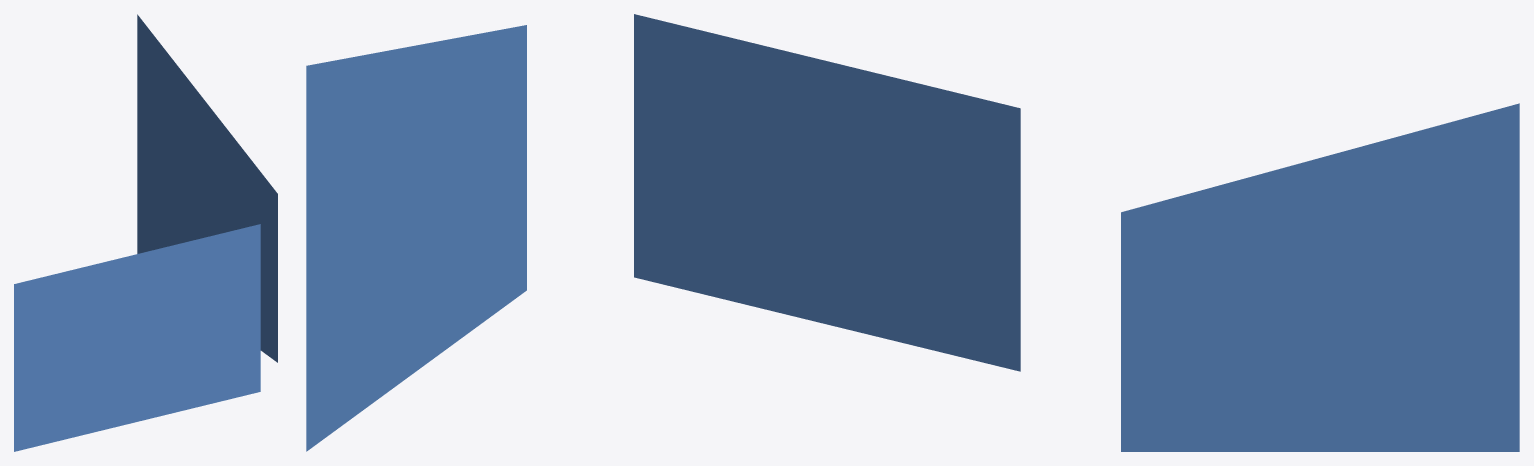
The model's file is PoolMirrors.fbx.
The picture shows the model from 3 angles, left to right: view 1: azimuth 30°, elevation 25°; view 2: azimuth 150°, elevation 25°; view 3: azimuth 270°, elevation 25°; orthographic projection. The views are drawn at different scales.
Parts seen in each view (by area): view 1: PoolWindowsSingle2, PoolWindowsSingle; view 2: PoolWindowsSingle2, PoolWindowsSingle; view 3: PoolWindowsSingle.
Boxes of the visible parts, left/top/right/bottom form: PoolWindowsSingle2: left=14, top=224, right=260, bottom=451; PoolWindowsSingle: left=137, top=14, right=277, bottom=362; PoolWindowsSingle2: left=634, top=14, right=1020, bottom=371; PoolWindowsSingle: left=306, top=25, right=526, bottom=451; PoolWindowsSingle: left=1121, top=103, right=1519, bottom=451.
Bounding box in the file's own units: 37418 × 37215 × 30422.
